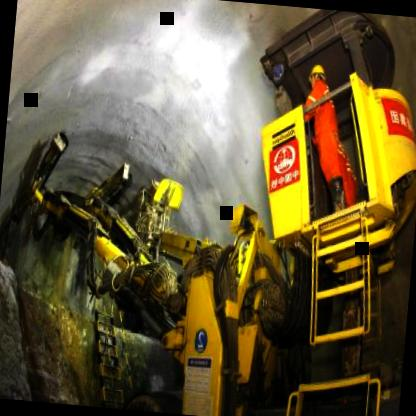helmet: (306, 60, 328, 93)
